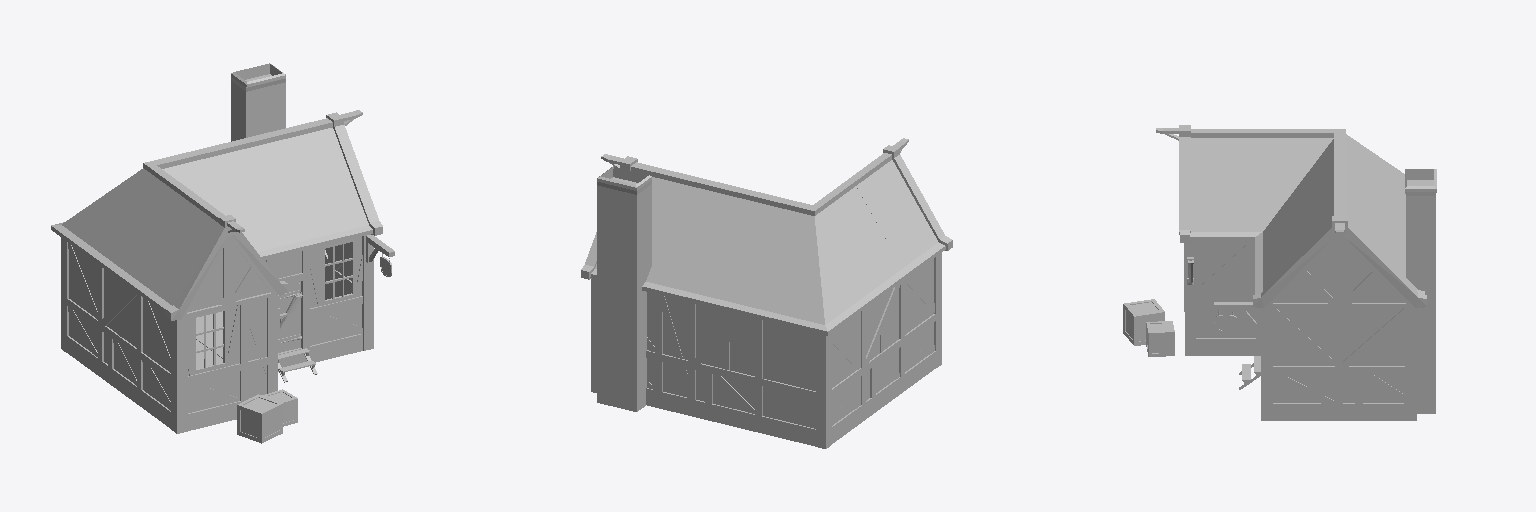
Rendered from medievalHouse.obj.
3 views of the same model, side by side, from view 1: azimuth 30°, elevation 25°; view 2: azimuth 150°, elevation 25°; view 3: azimuth 270°, elevation 25° (orthographic).
Parts seen in each view (by area): view 1: roof_wide3.012_Cube.121; view 2: roof_wide3.012_Cube.121; view 3: roof_wide3.012_Cube.121.
Boxes of the visible parts, <box> form: roof_wide3.012_Cube.121: <box>51,63,394,443</box>; roof_wide3.012_Cube.121: <box>581,138,952,448</box>; roof_wide3.012_Cube.121: <box>1123,125,1436,420</box>.
Bounding box in the file's own units: 20.15 × 16.3 × 20.28.